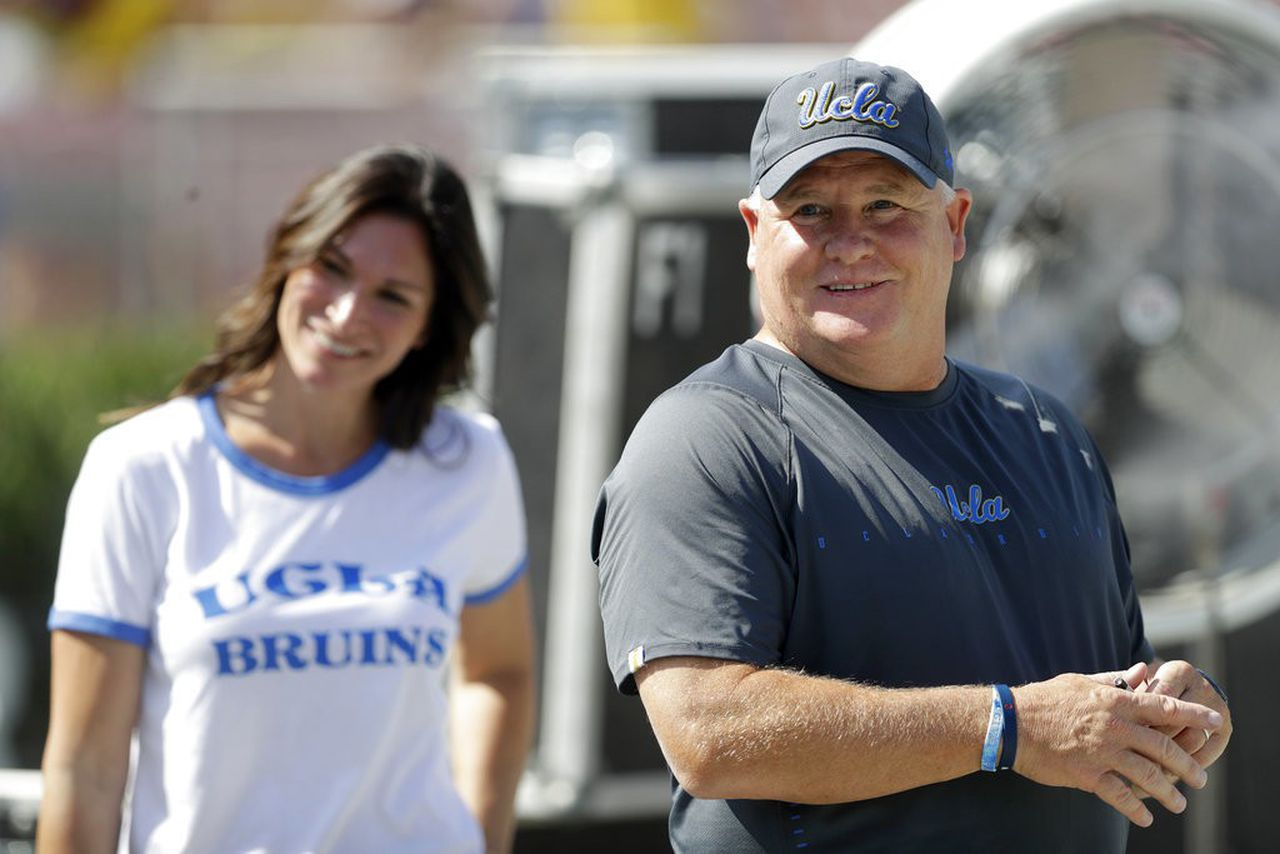Person: (591, 57, 1233, 854), (32, 145, 535, 854)
